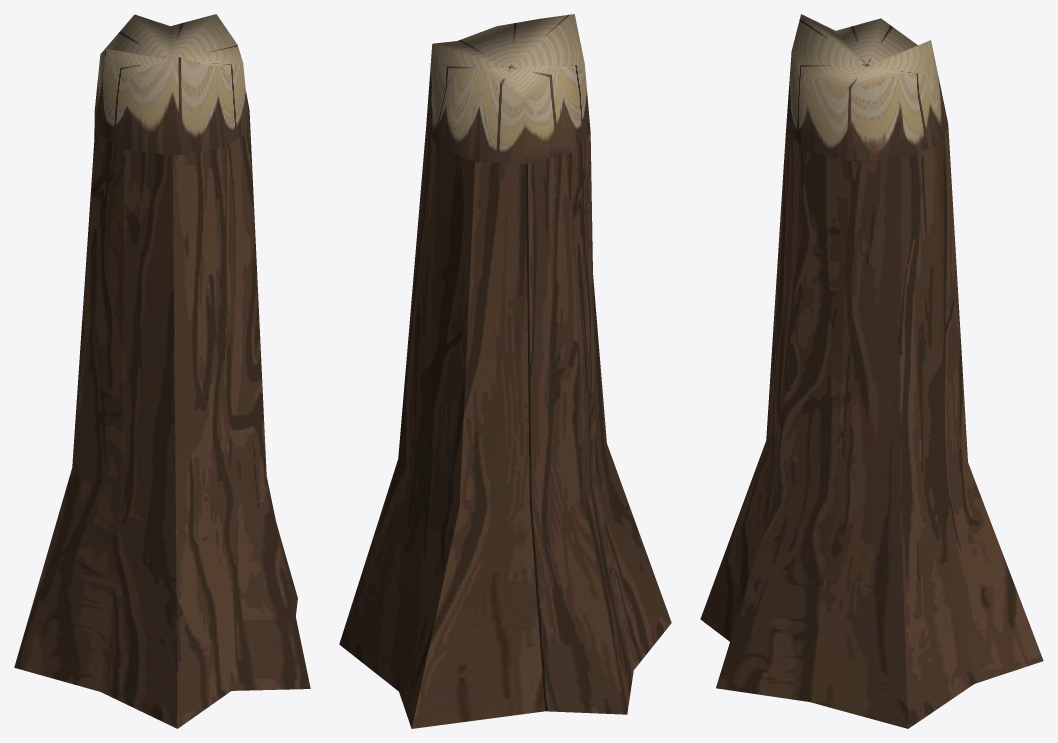
File: Log vertical.fbx
3 renders of one model, left to right at view 1: azimuth 30°, elevation 25°; view 2: azimuth 150°, elevation 25°; view 3: azimuth 270°, elevation 25°, orthographic.
Visible parts, largest first — view 1: pCylinder2; view 2: pCylinder2; view 3: pCylinder2.
Boxes of the visible parts, <box> form: pCylinder2: <box>14,14,310,728</box>; pCylinder2: <box>339,14,671,728</box>; pCylinder2: <box>700,14,1043,728</box>.
Bounding box in the file's own units: 3.5 × 7.38 × 3.66.
Materials: 1 (1 with a texture image).
